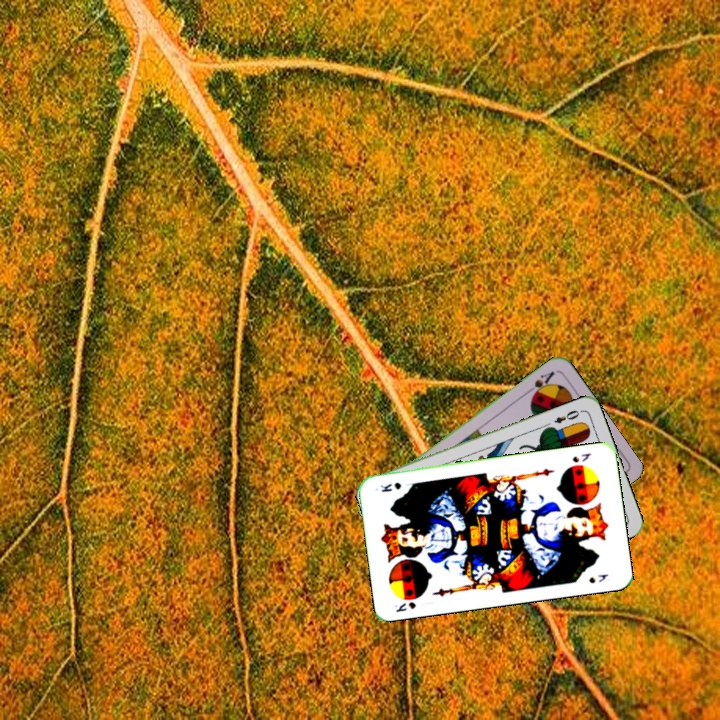EO: (550, 406, 585, 426)
SA: (523, 367, 557, 400)
SK: (391, 598, 418, 615), (568, 449, 594, 465)
